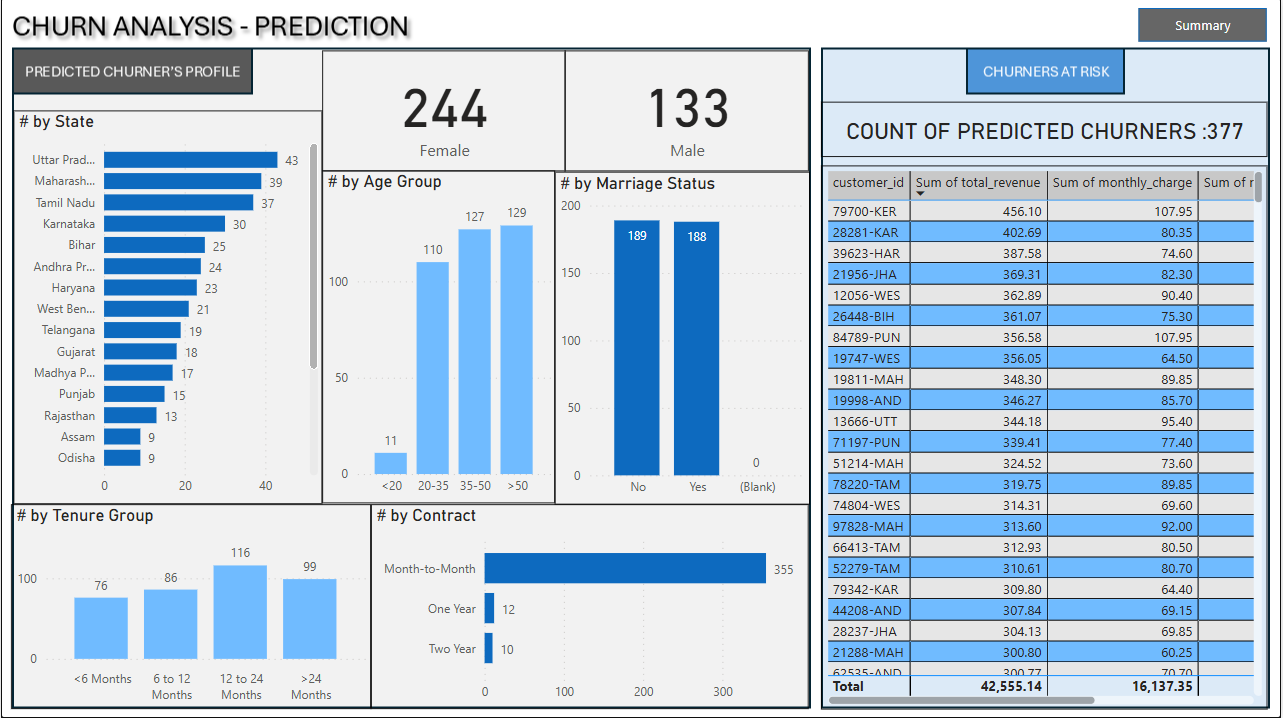

The dashboard page shown, as its layout file describes it:
{"tool":"powerbi","page":{"name":"Churn Prediction","canvas":[1280,720],"ordinal":2},"visuals":[{"type":"tableEx","fields":{"Values":["Predictions.customer_id","Sum(Predictions.total_revenue)","Sum(Predictions.monthly_charge)","Sum(Predictions.number_of_referrals)","Sum(Predictions.total_refunds)"]},"box":[820,167.5,446.2,543.8],"z":0},{"type":"card","fields":{"Values":["Measure_table.Count_of_Predicted_Churners"]},"box":[321.2,51.9,243.5,121.2],"z":1000},{"type":"card","fields":{"Values":["Measure_table.Count_of_Predicted_Churners"]},"box":[564.2,51.9,244.2,121.2],"z":2000},{"type":"card","fields":{"Values":["Measure_table.Title_Predicted_Churners"]},"box":[820,103.3,446.7,55.6],"z":3000},{"type":"columnChart","title":"# by Age Group","fields":{"Category":["mapping_AgeGrp.Age_grop"],"Y":["Measure_table.Count_of_Predicted_Churners"]},"box":[321.2,172.9,233,332.9],"z":4000},{"type":"columnChart","title":"# by Marriage Status","fields":{"Y":["Measure_table.Count_of_Predicted_Churners"],"Category":["Predictions.married"]},"box":[553.8,173.8,255,333],"z":5000},{"type":"columnChart","title":"# by Tenure Group","fields":{"Y":["Measure_table.Count_of_Predicted_Churners"],"Category":["mapping_tenure.Tenure_range"]},"box":[10,506.2,360,205],"z":6000},{"type":"clusteredBarChart","title":"# by Contract","fields":{"Category":["public prod_churn.contract"],"Y":["Measure_table.Count_of_Predicted_Churners"]},"box":[370,506.2,437.5,205],"z":7000},{"type":"clusteredBarChart","title":"#  by State","fields":{"Category":["public prod_churn.state"],"Y":["Measure_table.Count_of_Predicted_Churners"]},"box":[12.2,112.2,308.9,393.3],"z":8000},{"type":"shape","title":"Previous","box":[1137.5,10,128.8,33.8],"z":9000}]}

Visuals, with their boxes in screenshot pixels (x1, y1, x2, y2), scaled from the page's 1280x720 canvas onto the 1283x718 screenshot:
tableEx - Predictions.customer_id x Sum(Predictions.total_revenue): <box>822,167,1269,709</box>
card - Measure_table.Count_of_Predicted_Churners: <box>322,52,566,173</box>
card - Measure_table.Count_of_Predicted_Churners: <box>566,52,810,173</box>
card - Measure_table.Title_Predicted_Churners: <box>822,103,1270,158</box>
"# by Age Group" columnChart: <box>322,172,555,504</box>
"# by Marriage Status" columnChart: <box>555,173,811,505</box>
"# by Tenure Group" columnChart: <box>10,505,371,709</box>
"# by Contract" clusteredBarChart: <box>371,505,809,709</box>
"#  by State" clusteredBarChart: <box>12,112,322,504</box>
"Previous" shape: <box>1140,10,1269,44</box>
